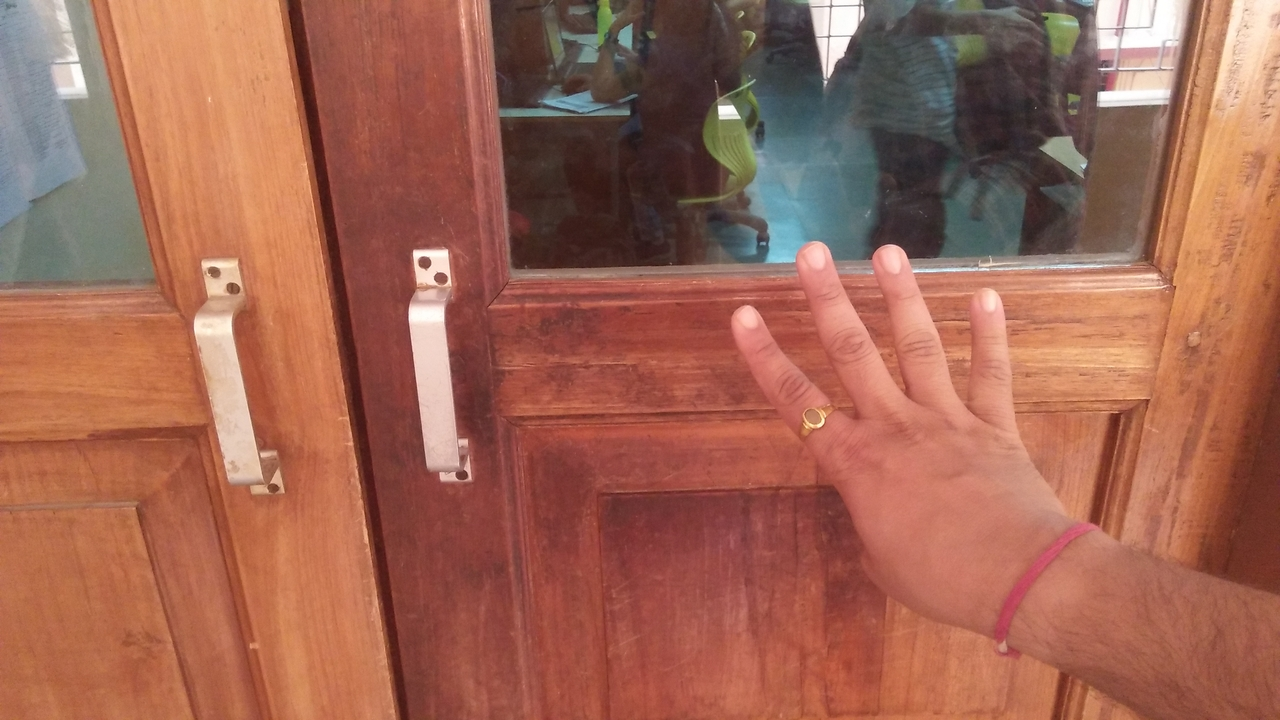fingertip: (788, 232, 844, 286), (872, 230, 922, 286), (724, 298, 778, 348), (968, 276, 1020, 324)
